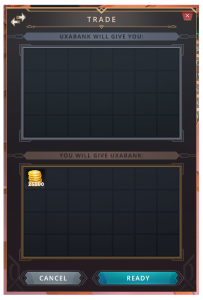gold: (25, 166, 44, 188)
